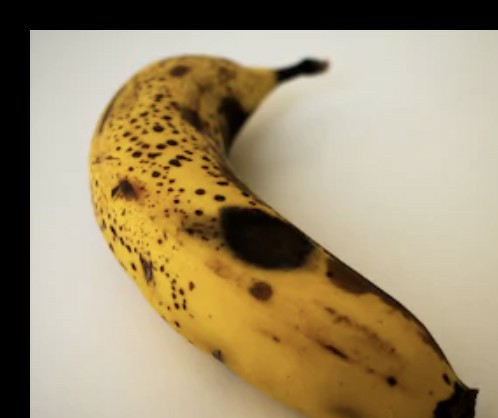rotten_banana: (94, 54, 476, 418)
